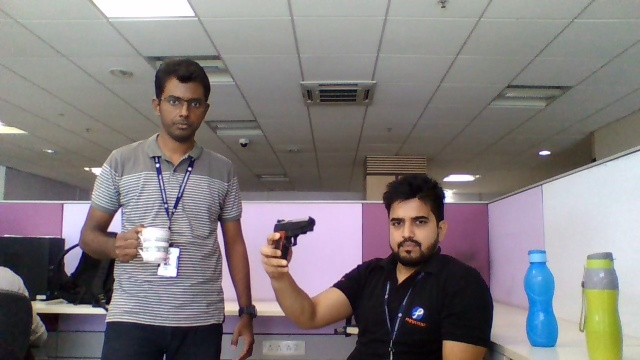gun: (292, 216, 316, 247)
